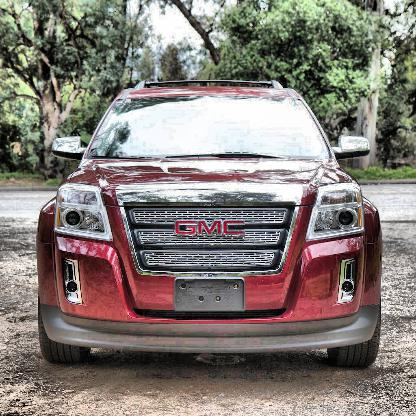GMC Terrain SUV 2012: (32, 80, 387, 372)
